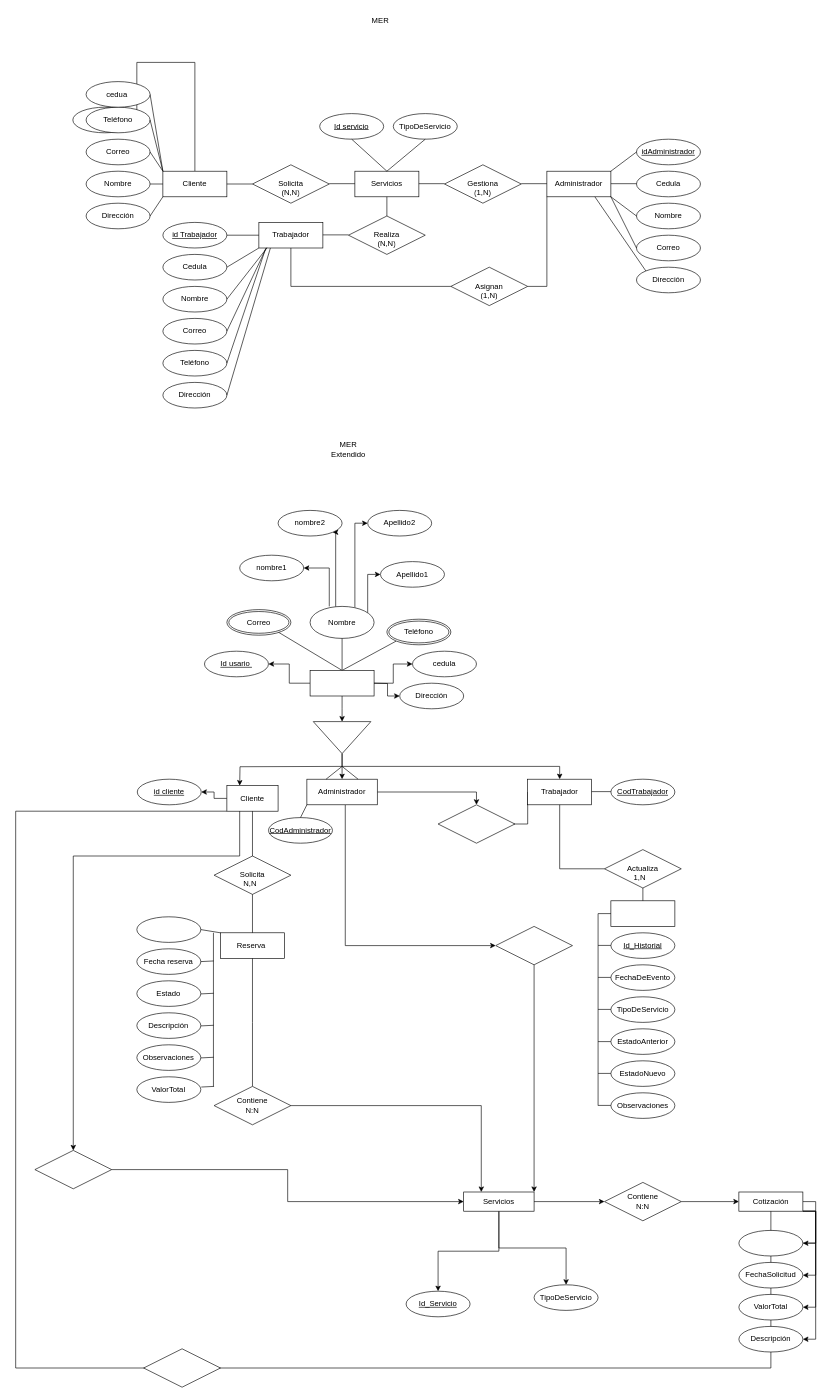
The diagram is 832 pixels wide and 1398 high, and some of its shapes have lost their labels. Each missing label, with the centre of its shape:
"Asigna 1:N" belongs at (533,945).
"Concede 1:N" belongs at (476,823).
"consultar 1:N" belongs at (73,1169).
"es un" belongs at (342,737).
"Historial" belongs at (642,913).
"Id Reserva" belongs at (168,929).
"Id_Cotización" belongs at (770,1243).
"Realiza 1:N" belongs at (181,1367).
"Usuario" belongs at (341,683).
